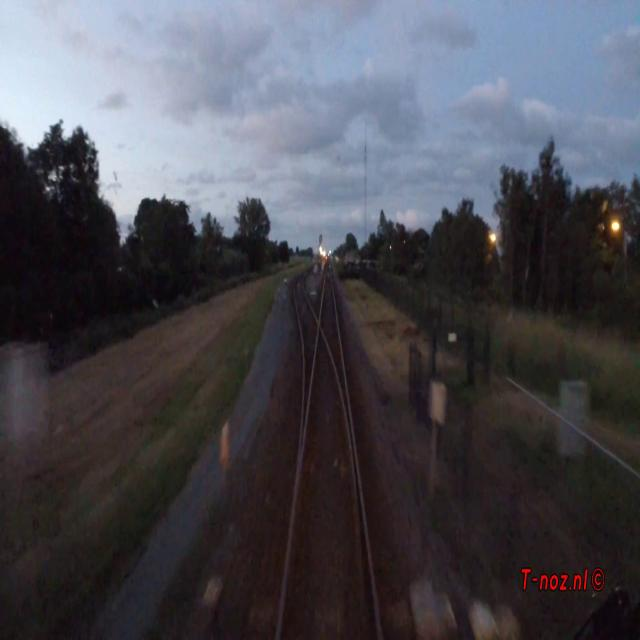rail-track: (280, 329, 364, 639), (320, 265, 378, 639), (295, 273, 317, 416)
